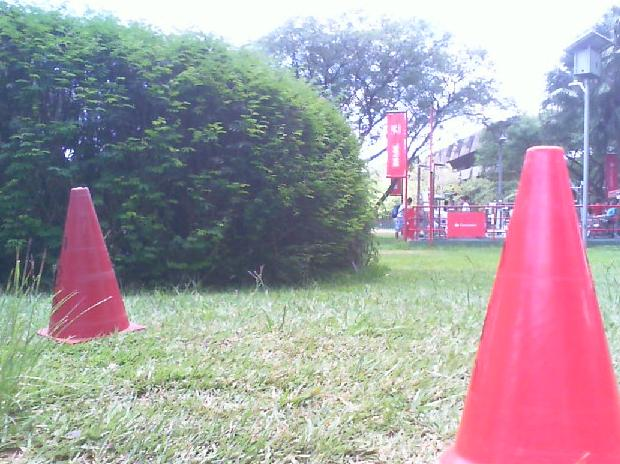0 cone: (436, 145, 620, 464), (36, 188, 148, 345)
